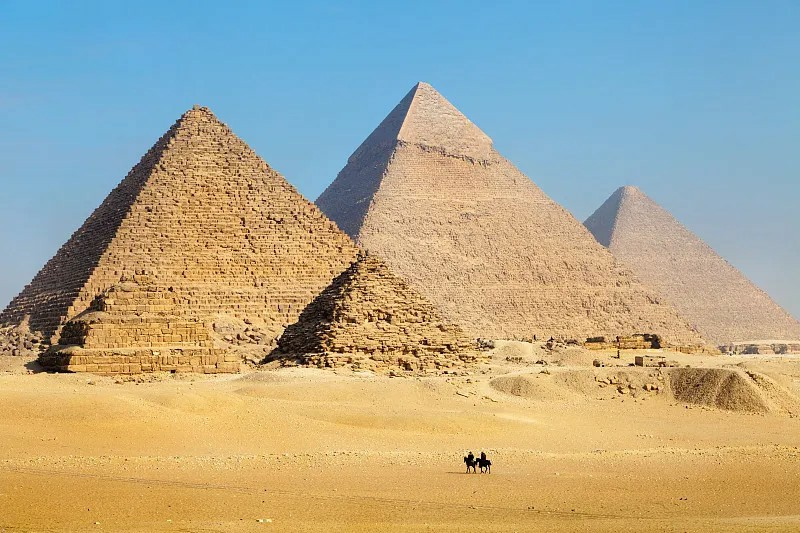Pyramid: (315, 81, 712, 352), (2, 107, 364, 363), (582, 186, 800, 343), (270, 254, 483, 377), (30, 270, 246, 376)
